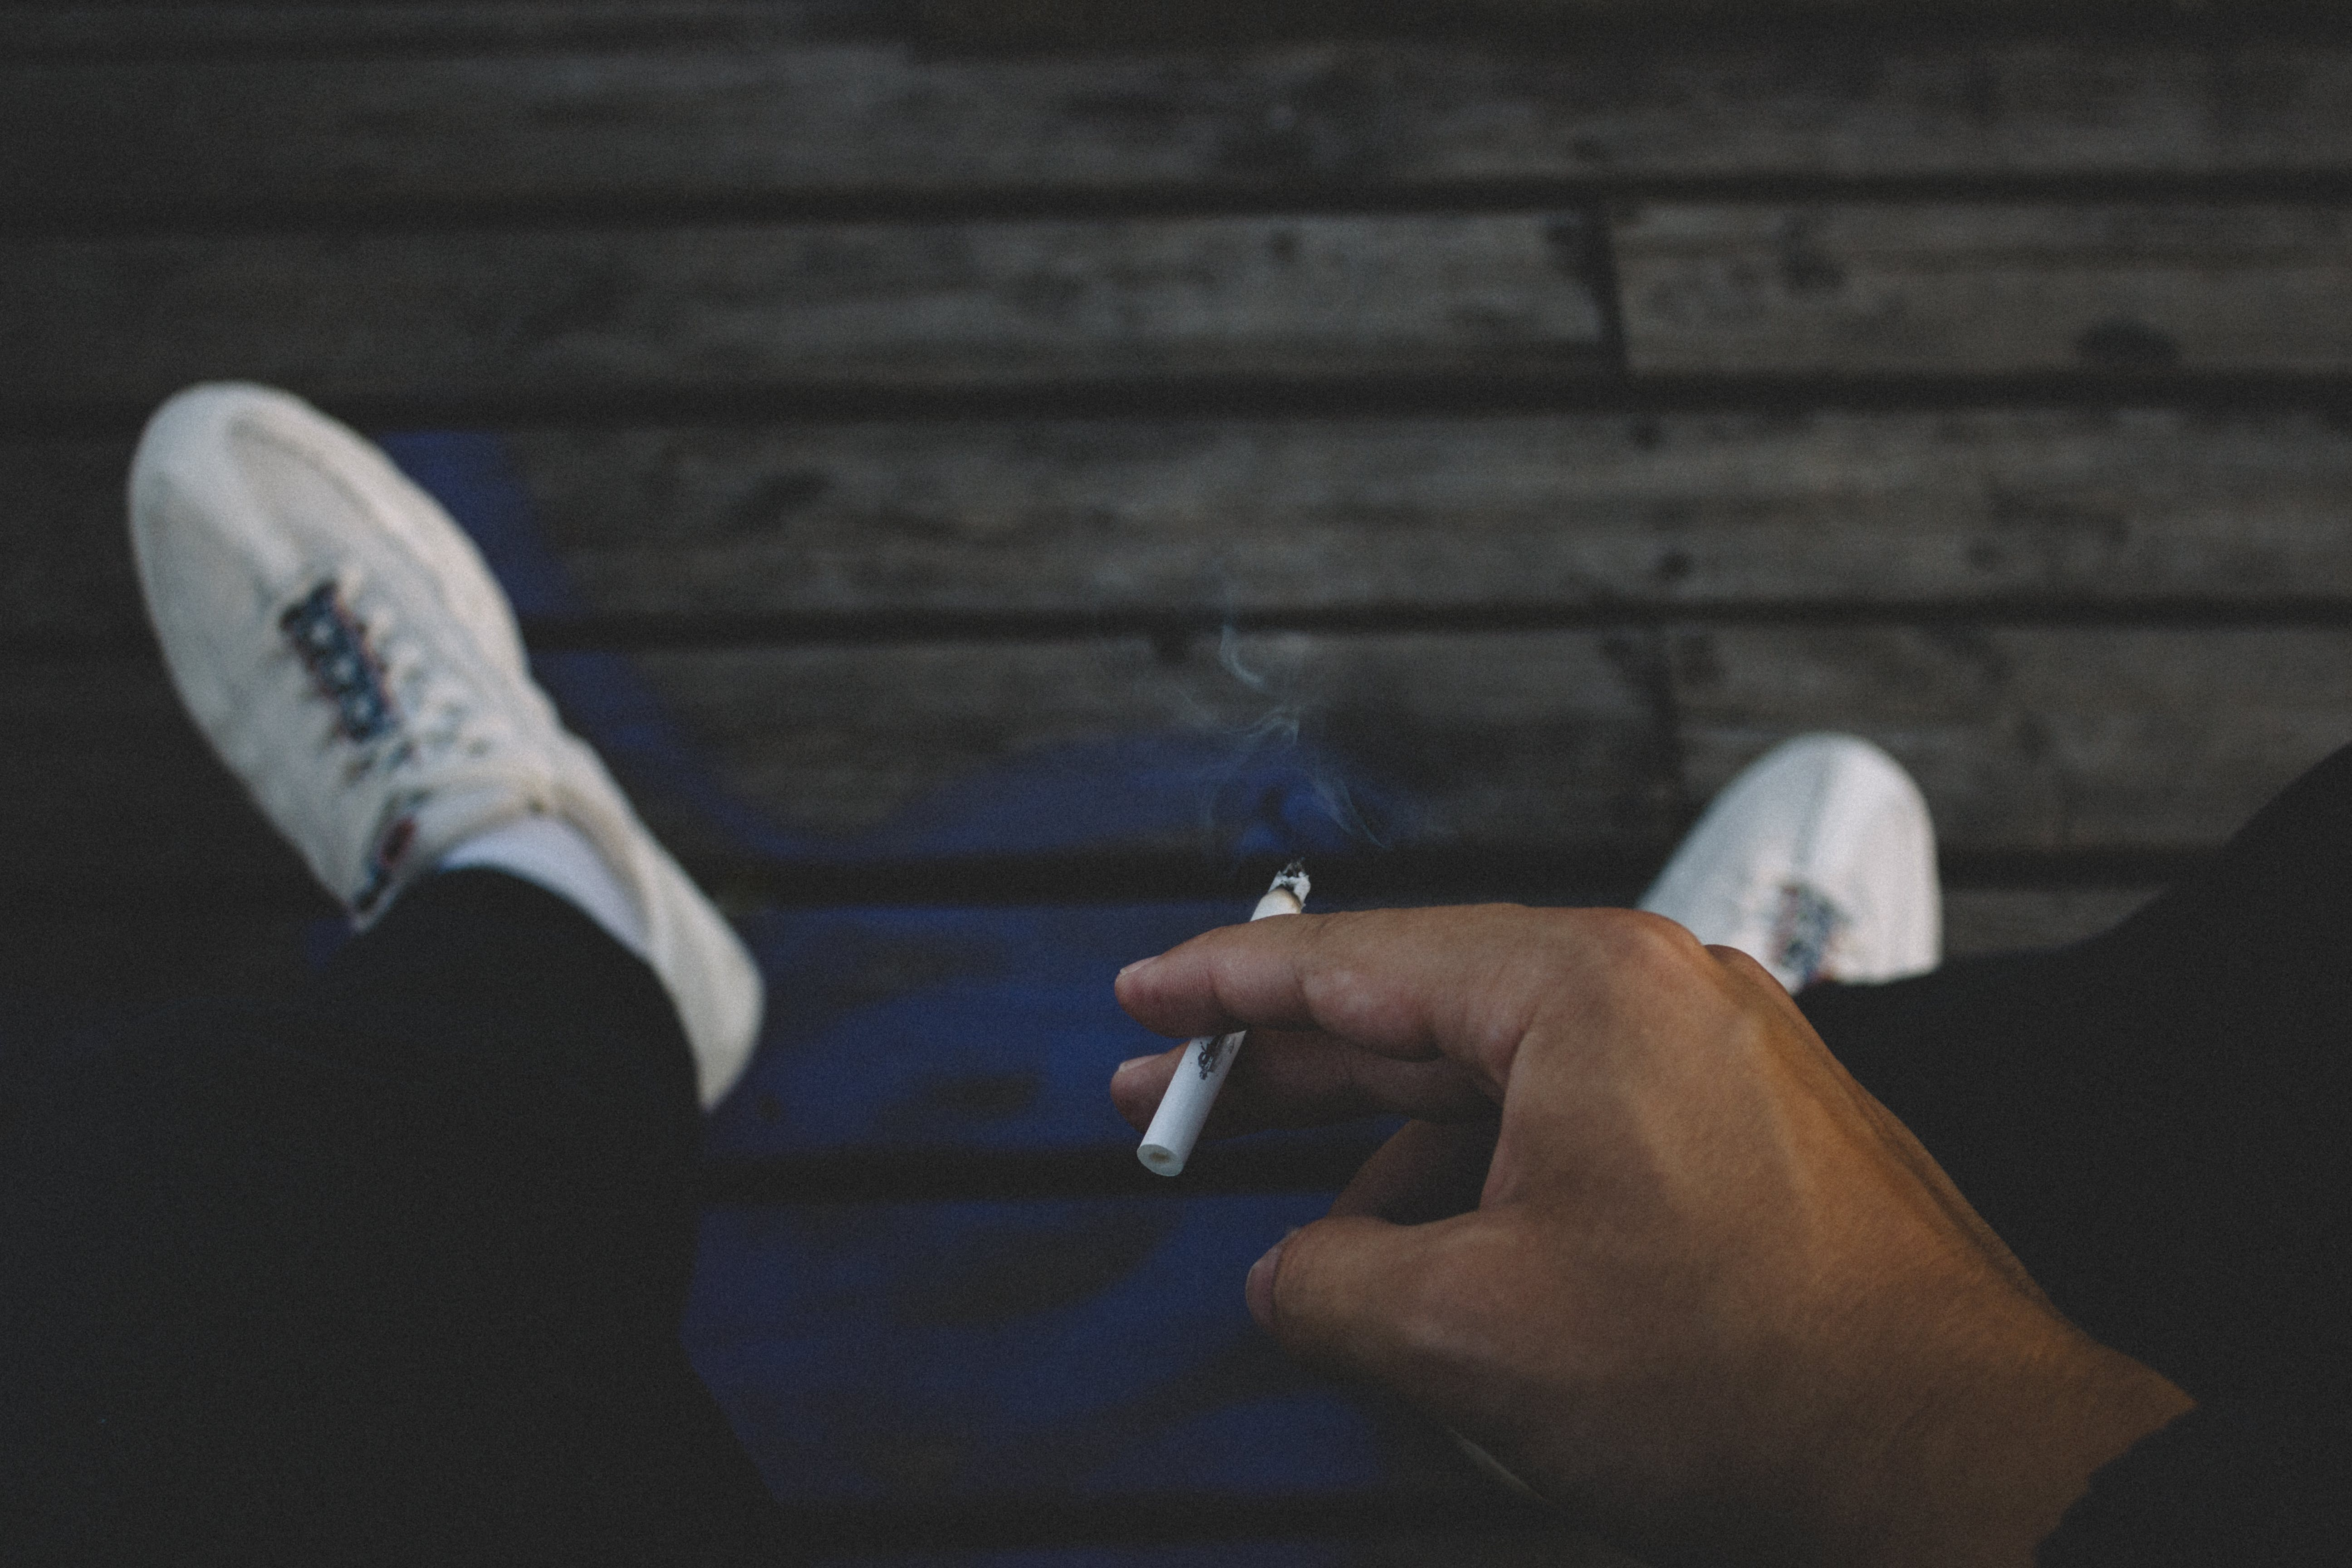Cigarette: (1139, 865, 1311, 1174)
